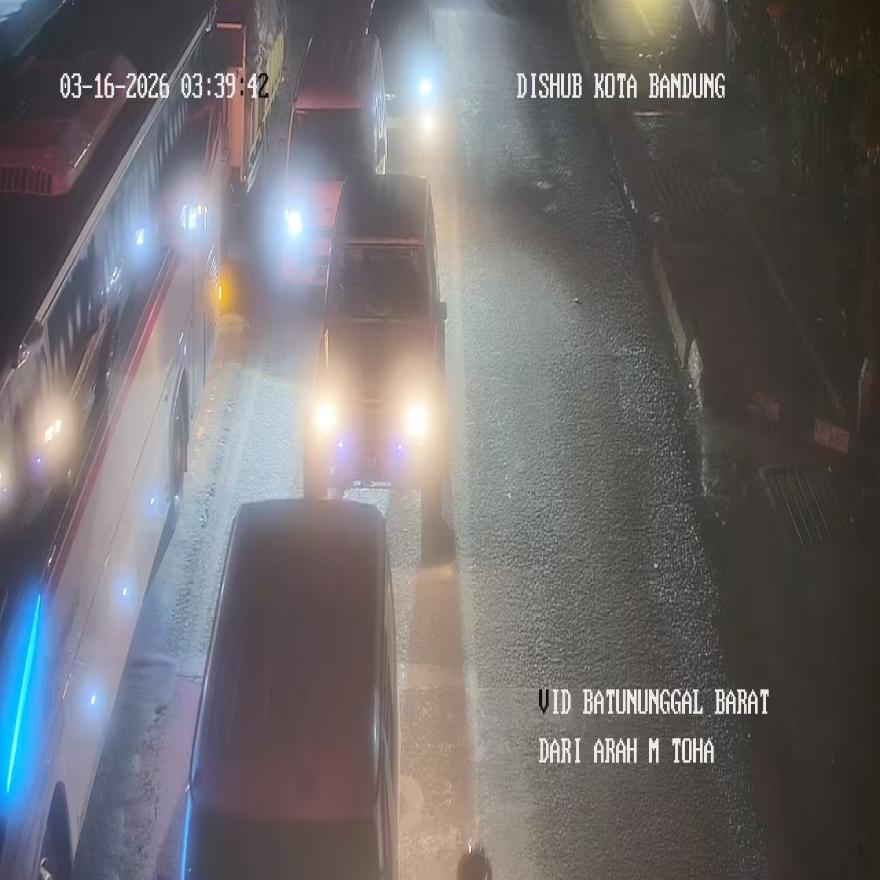Motor: (178, 499, 400, 878), (302, 170, 449, 516), (276, 7, 387, 300)
